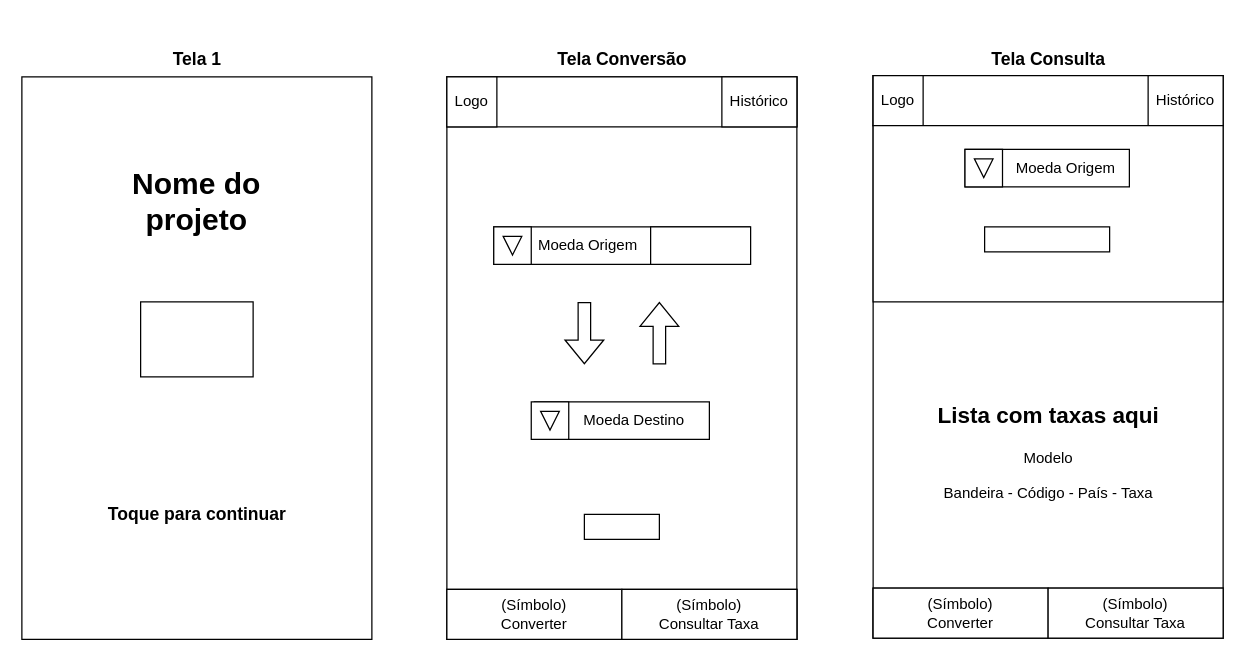
Image size: 1245x661. Some labels were removed from this diagram. Each missing label, with the centre of its shape:
"Logo" de conversão de moedas: point 196,339
Consultar Taxas: point 1046,239
Converter: point 621,526
Valor (opcional): point 700,245
